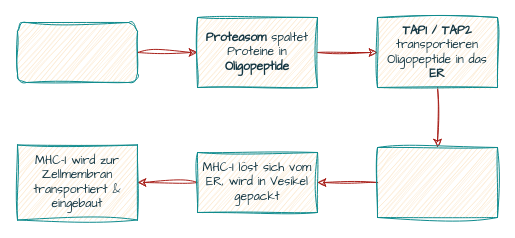
This 515x238 diagram has some shape labels left out. Here are the shapes that lost their labels. From the top down, the centre of each, then its label:
At (77,52): "Proteine werden im Zytoplasma synthetisiert".
At (437,182): "Oligopeptide binden an MHC-1".
